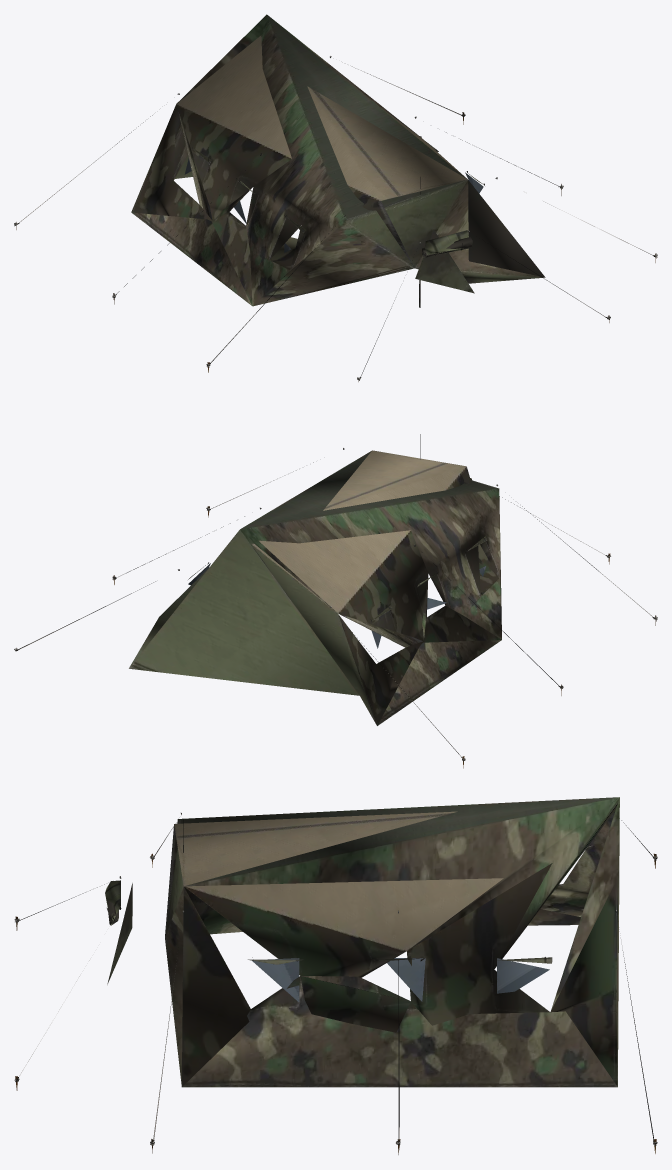
File: base_tent_lod1.glb
3 renders of one model, top to bottom at view 1: azimuth 30°, elevation 25°; view 2: azimuth 150°, elevation 25°; view 3: azimuth 270°, elevation 25°, orthographic. The views are drawn at different scales.
Visible parts, largest first — view 1: base_tent; view 2: base_tent; view 3: base_tent.
Boxes of the visible parts, left/top/right/bottom form: base_tent: left=14, top=14, right=657, bottom=381; base_tent: left=14, top=434, right=657, bottom=768; base_tent: left=14, top=797, right=657, bottom=1154.
Bounding box in the file's own units: 11.18 × 4.06 × 10.55.
1 material, 1 textured.
